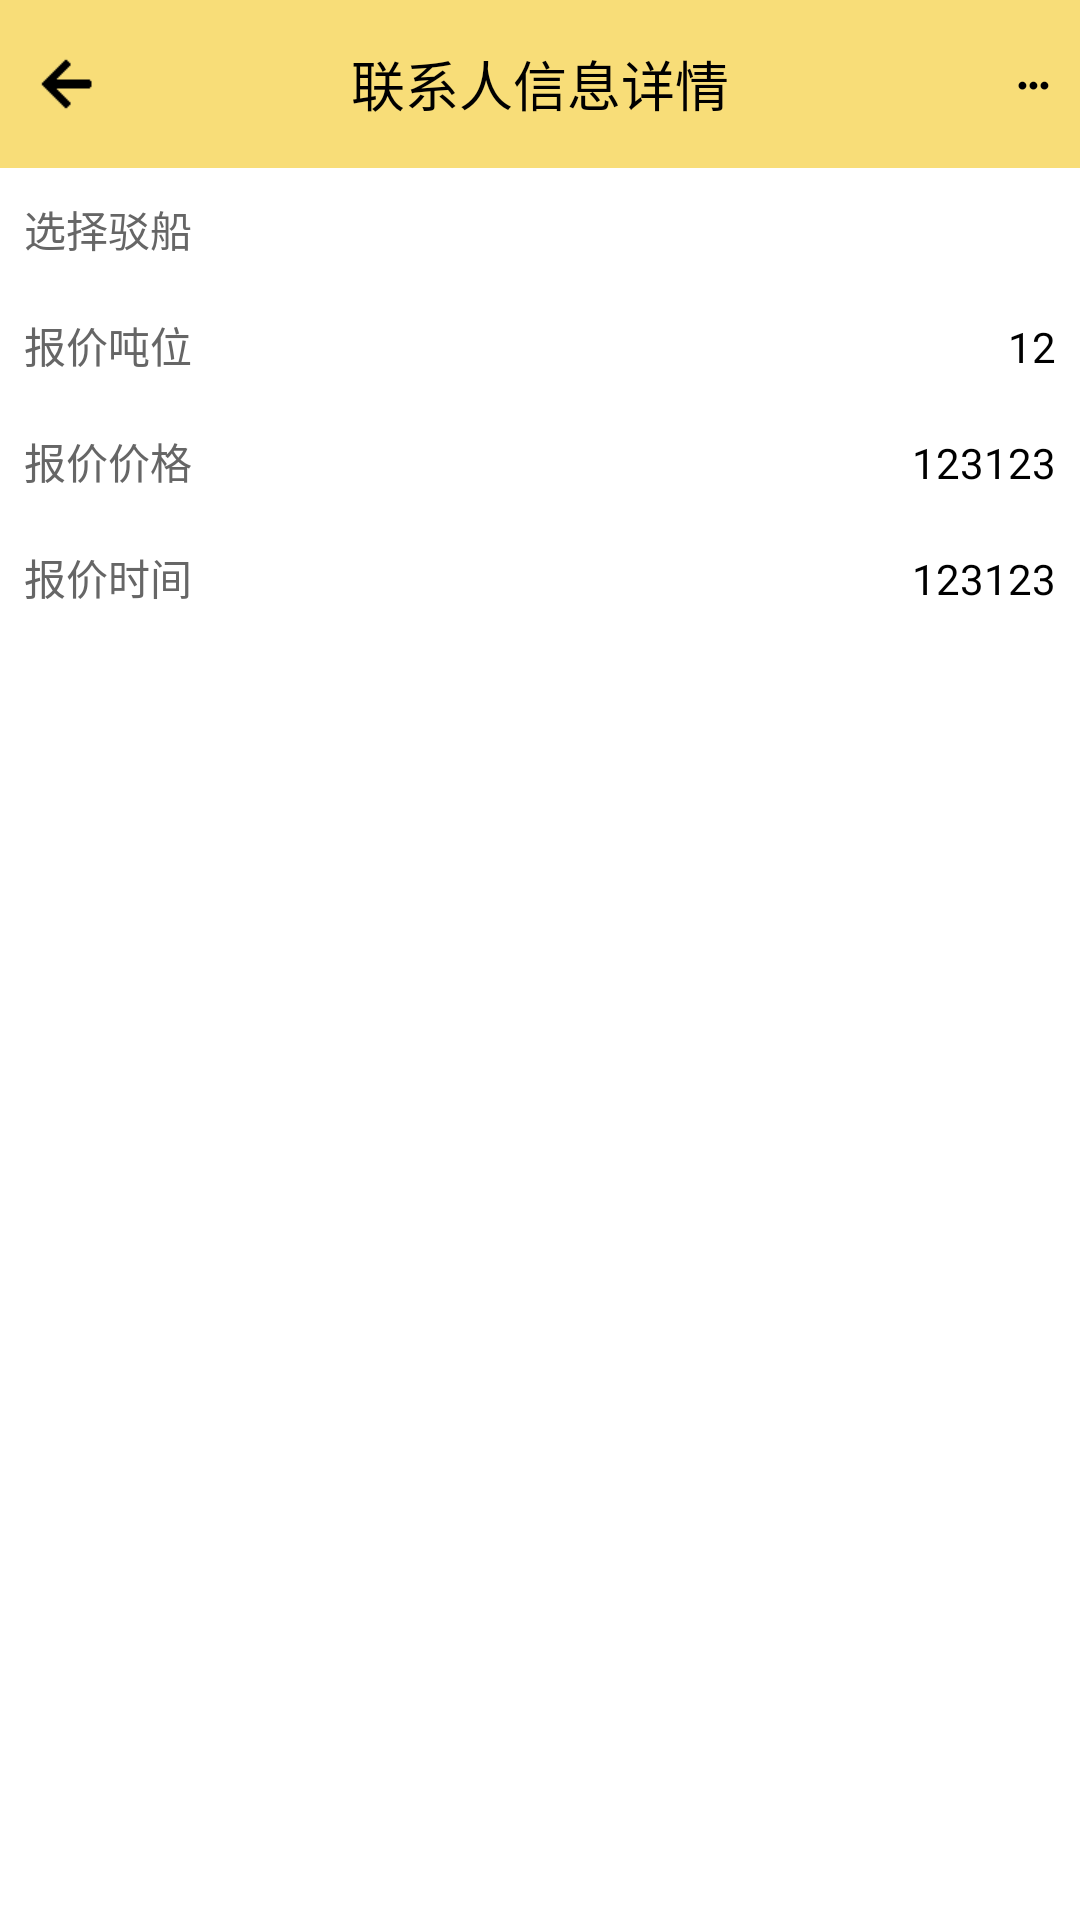

Icon click points for this 1080 x 1920 phone screenshot, format point (x, y):
back: point (66, 84)
